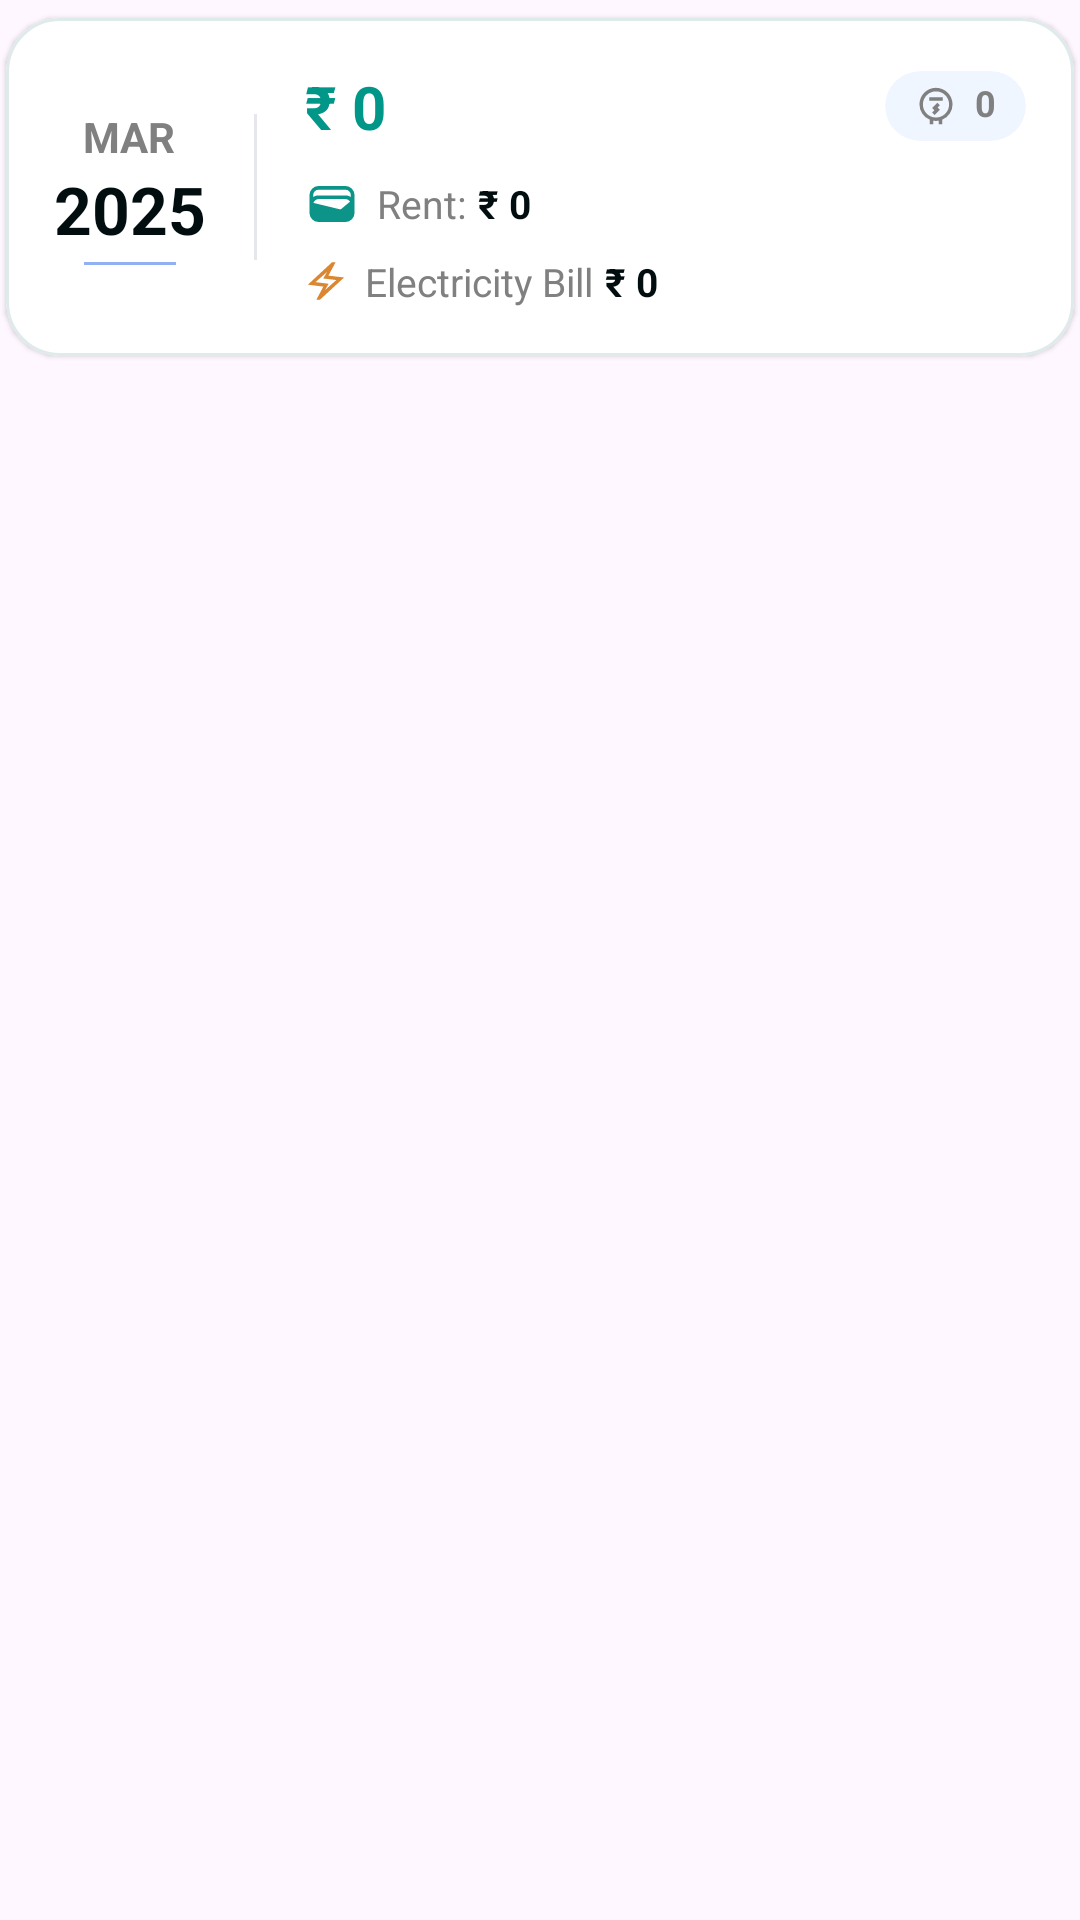

Icon click points for this 1080w x 1920h phone screenshot, format (x,y):
electric bolt: (326,281)
meter reading: (936,106)
wallet: (332,204)
